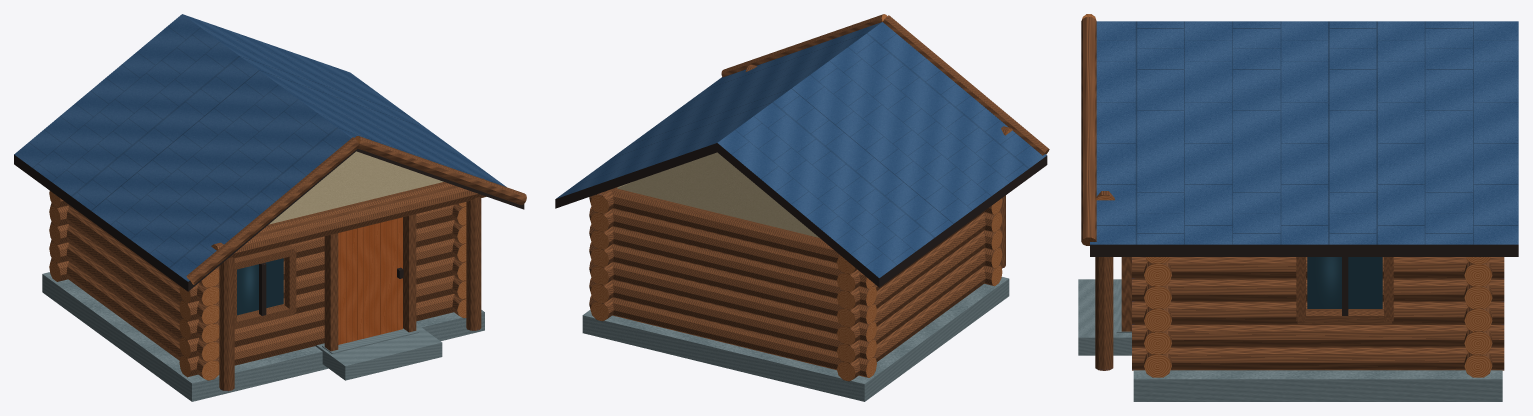
The model's file is Cabin_Standalone_v001.fbx.
The picture shows the model from 3 angles, left to right: view 1: azimuth 30°, elevation 25°; view 2: azimuth 150°, elevation 25°; view 3: azimuth 270°, elevation 25°; orthographic projection. The views are drawn at different scales.
Parts seen in each view (by area): view 1: Roof_Left, Roof_Right, Cabin_Foundation, Gable_Front, Porch_Crossbeam, Porch_Step, Log_Front_01, Log_Front_02, Door_Plank_02, RoofEdge_Left, Log_Side_Left_01, Log_Side_Left_03 (+20 smaller); view 2: Roof_Left, Roof_Right, Cabin_Foundation, Gable_Back, Log_Back_07, Log_Back_05, Log_Back_01, Log_Back_04, Log_Back_03, Log_Back_02, Log_Back_06, Log_Side_Left_01 (+7 smaller); view 3: Roof_Right, Cabin_Foundation, Log_Side_Right_01, Log_Side_Right_02, Log_Side_Right_04, Log_Side_Right_03, Log_Side_Right_05, Window_Side_Glass, RoofEdge_Right, Porch_Post_Right, Porch_Step, Window_Side_Frame_Bottom (+14 smaller).
Part boxes in pixels (x1,y1,x2,y2): Roof_Left: (14,14,356,291); Roof_Right: (183,14,524,209); Cabin_Foundation: (42,272,484,401); Gable_Front: (269,151,443,224); Porch_Crossbeam: (211,178,486,259); Porch_Step: (315,324,442,380); Log_Front_01: (179,294,454,377); Log_Front_02: (179,275,454,358); Door_Plank_02: (357,223,380,339); RoofEdge_Left: (186,137,359,284); Log_Side_Left_01: (50,258,219,380); Log_Side_Left_03: (50,221,219,343); Roof_Left: (717,22,1047,287); Roof_Right: (555,22,881,208); Cabin_Foundation: (582,277,1009,401); Gable_Back: (617,152,819,237); Log_Back_07: (589,187,840,263); Log_Back_05: (589,224,876,306); Log_Back_01: (589,295,876,377); Log_Back_04: (589,242,876,324); Log_Back_03: (589,260,876,342); Log_Back_02: (589,278,876,360); Log_Back_06: (589,207,874,288); Log_Side_Left_01: (836,263,1001,381); Roof_Right: (1090,21,1518,256); Cabin_Foundation: (1133,370,1502,401); Log_Side_Right_01: (1132,347,1504,370); Log_Side_Right_02: (1132,325,1504,347); Log_Side_Right_04: (1132,279,1504,302); Log_Side_Right_03: (1132,302,1504,324); Log_Side_Right_05: (1132,257,1504,279); Window_Side_Glass: (1307,257,1382,308); RoofEdge_Right: (1081,17,1096,245); Porch_Post_Right: (1095,257,1113,370); Porch_Step: (1078,279,1131,355); Window_Side_Frame_Bottom: (1297,310,1392,324).
Bounding box in the file's own units: 536 × 368 × 492.
1 material, 1 textured.
